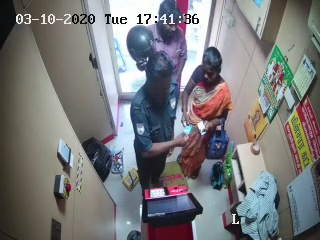helmet: (123, 25, 159, 67)
